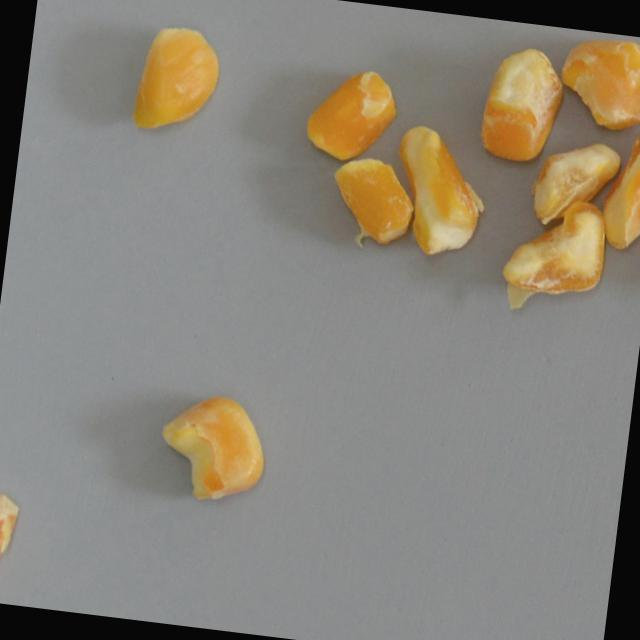pelicula: (151, 387, 273, 510), (387, 123, 493, 260), (496, 196, 612, 321), (474, 40, 566, 165), (297, 60, 402, 167), (131, 21, 222, 136), (523, 135, 623, 235), (550, 28, 640, 137), (323, 153, 417, 253), (597, 112, 640, 251), (0, 489, 24, 592)
